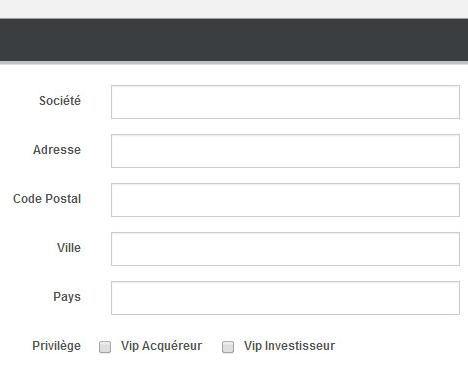checkbox: (97, 338, 111, 355), (219, 340, 233, 355)
checkbox_with_label: (213, 335, 336, 357), (94, 334, 201, 357)
field: (108, 278, 462, 317), (109, 181, 461, 219), (110, 133, 461, 170), (110, 83, 459, 120), (109, 231, 462, 266)
field_with_label: (13, 179, 465, 221), (37, 79, 463, 123), (32, 130, 463, 172), (51, 276, 465, 319), (55, 228, 465, 268)
